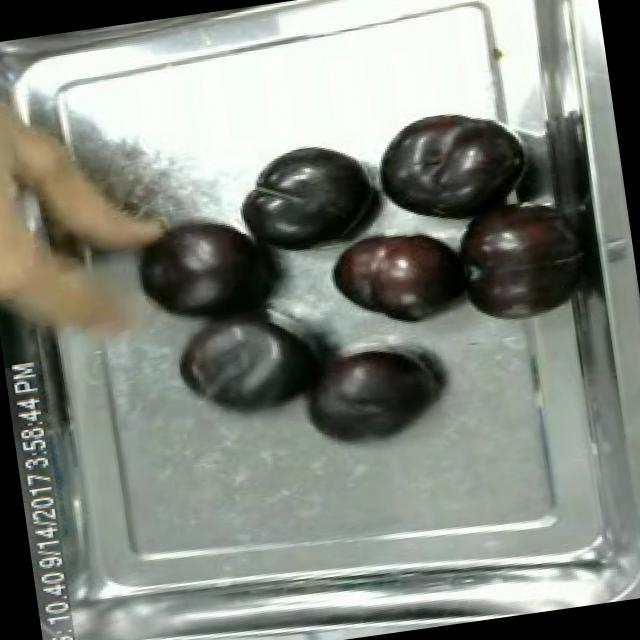Fruit: (362, 94, 536, 235), (165, 296, 338, 430), (438, 195, 598, 338), (224, 131, 388, 267), (126, 201, 290, 337), (286, 328, 452, 460), (316, 212, 476, 342)
